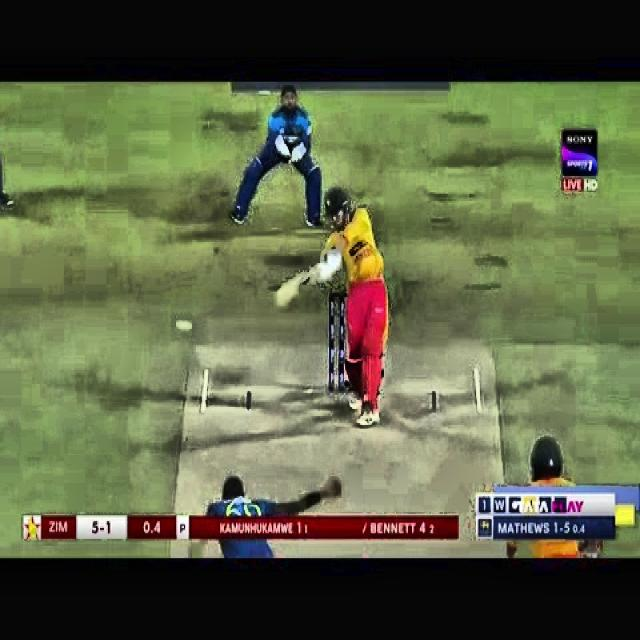Left-stump: (330, 301, 334, 391)
Middle-stump: (340, 301, 344, 390)
